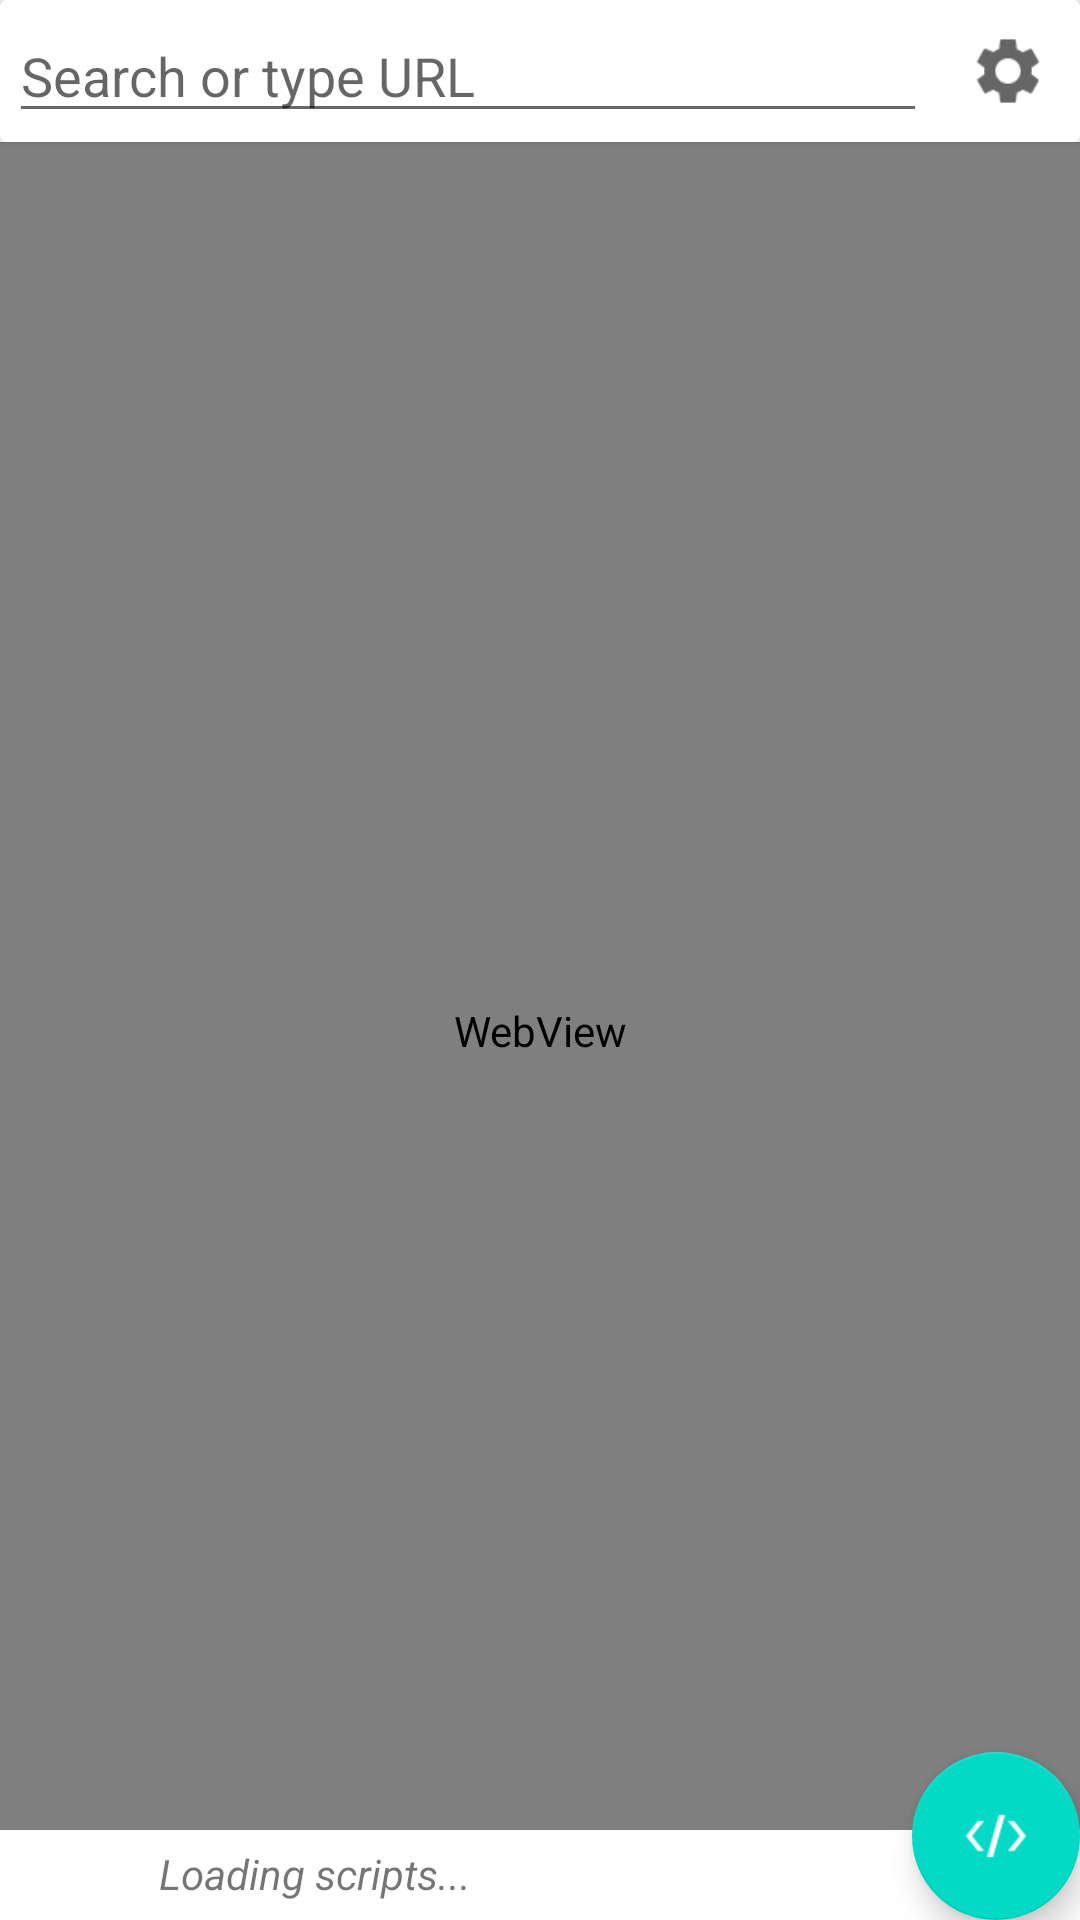

Screen size 1080px×1920px. Icon name, then its center in pixels as (x,y):
settings: (1007,71)
